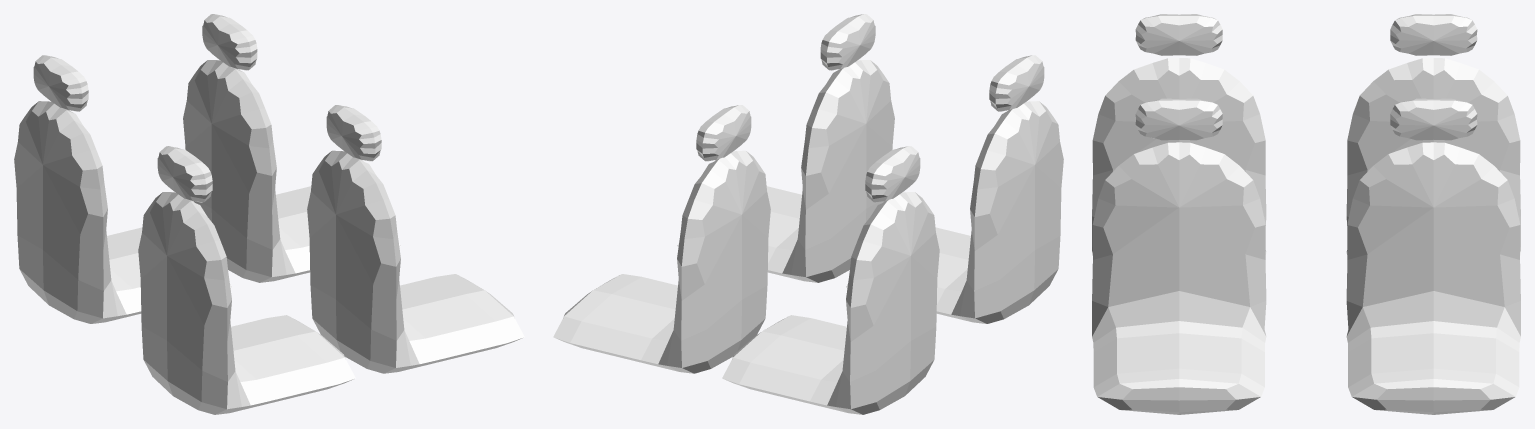
Rendered from Seats.glb.
3 views of the same model, side by side, from view 1: azimuth 30°, elevation 25°; view 2: azimuth 150°, elevation 25°; view 3: azimuth 270°, elevation 25° (orthographic). The views are drawn at different scales.
Visible parts, largest first — view 1: Seat1.003; view 2: Seat1.003; view 3: Seat1.003.
Boxes of the visible parts, left/top/right/bottom form: Seat1.003: left=14, top=14, right=524, bottom=414; Seat1.003: left=553, top=14, right=1063, bottom=414; Seat1.003: left=1092, top=14, right=1520, bottom=414.
Size of the model in its own units: 0.0423 by 0.0303 by 0.0472.
Materials: 1 (1 with a texture image).
